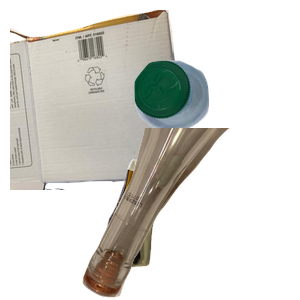cardboard: (10, 10, 191, 190)
glass: (80, 128, 300, 300)
plastic: (132, 58, 300, 182)
trash: (101, 157, 270, 300)
